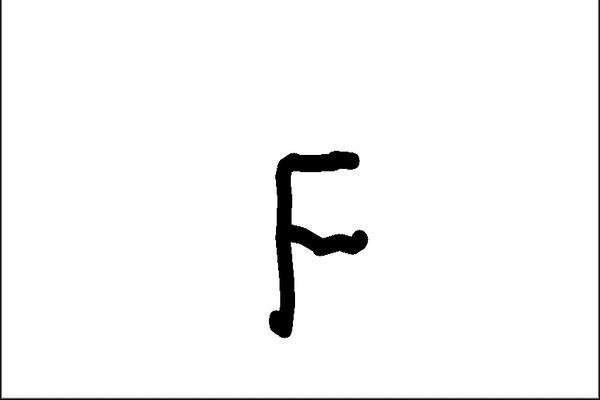F: (264, 146, 374, 340)
